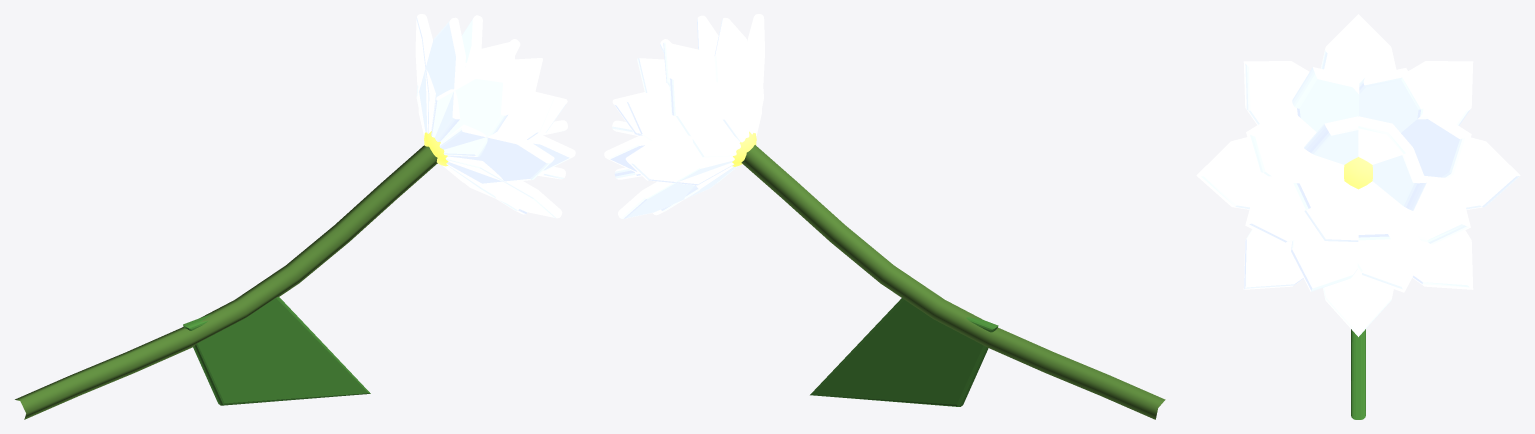
The model's file is moonpetal.glb.
3 renders of one model, left to right at view 1: azimuth 30°, elevation 25°; view 2: azimuth 150°, elevation 25°; view 3: azimuth 270°, elevation 25°, orthographic. The views are drawn at different scales.
Parts seen in each view (by area): view 1: moonpetal, petal (×10); view 2: moonpetal, petal (×10); view 3: petal (×22), moonpetal (×2).
Boxes of the visible parts, x1=… form: moonpetal: x1=15, y1=145, x2=437, y2=419; petal (×10): x1=415, y1=14, x2=575, y2=218; moonpetal: x1=741, y1=145, x2=1165, y2=419; petal (×10): x1=604, y1=14, x2=764, y2=218; petal (×22): x1=1196, y1=14, x2=1520, y2=336; moonpetal (×2): x1=1344, y1=157, x2=1372, y2=419.
Bounding box in the file's own units: 0.157 × 0.0989 × 0.0635.
